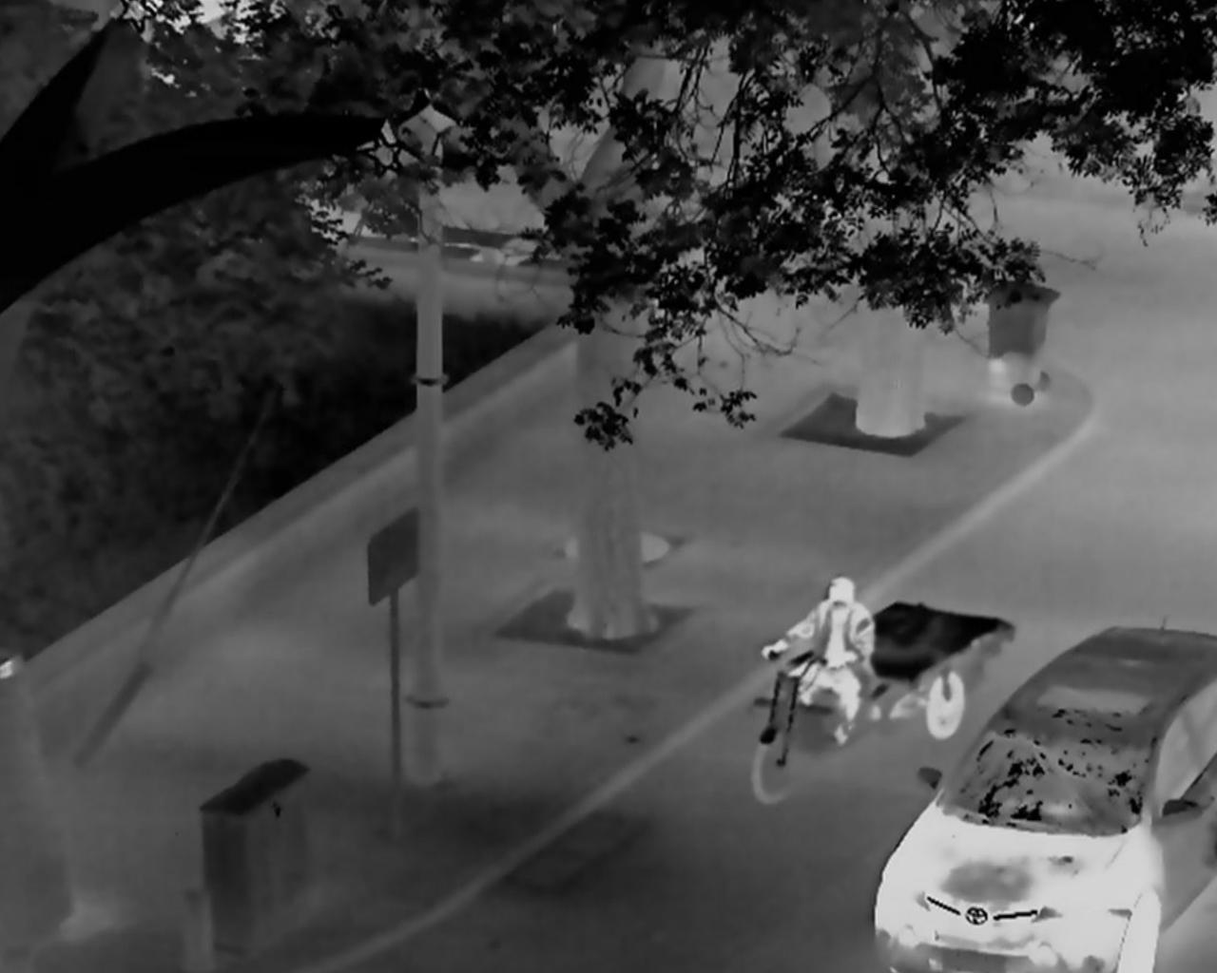person: (760, 574, 877, 749)
